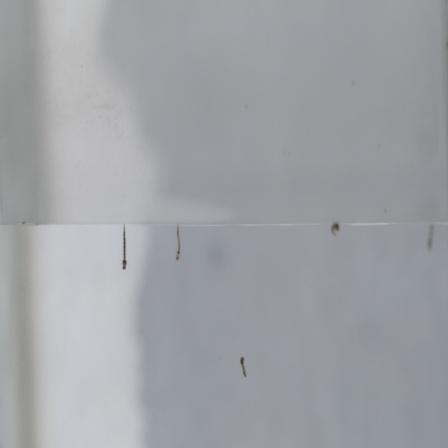Jentik-Nyamuk: (115, 222, 135, 273), (173, 221, 187, 266), (237, 352, 251, 381)
